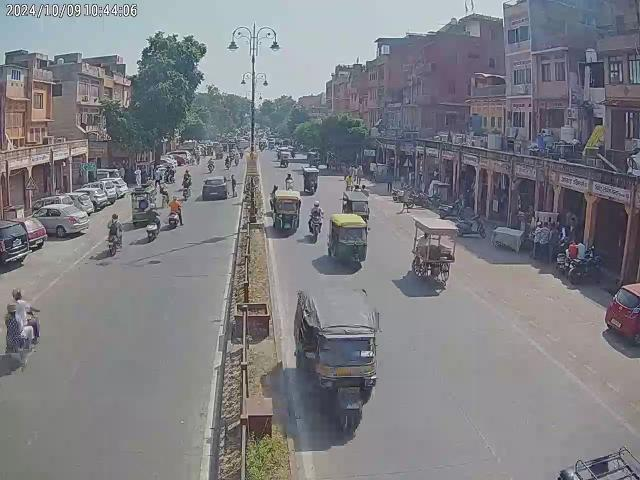auto: (291, 284, 381, 436), (326, 212, 369, 270), (270, 189, 302, 233), (342, 191, 370, 226), (130, 188, 154, 226), (302, 166, 320, 194)
bicycle-rider: (158, 180, 169, 208)
car: (604, 282, 640, 345), (31, 201, 90, 239), (0, 216, 40, 266), (76, 177, 126, 201), (202, 174, 228, 202)
helmet: (6, 302, 20, 316), (10, 288, 24, 300), (111, 213, 120, 220)
motorbike: (566, 253, 602, 284)
motorbike-rider: (3, 290, 44, 364), (105, 212, 124, 257), (307, 200, 323, 244)
scooty: (457, 213, 489, 240), (436, 197, 465, 220)
scooty-rider: (144, 206, 161, 241), (166, 196, 184, 229)
vendor: (412, 216, 458, 284)
